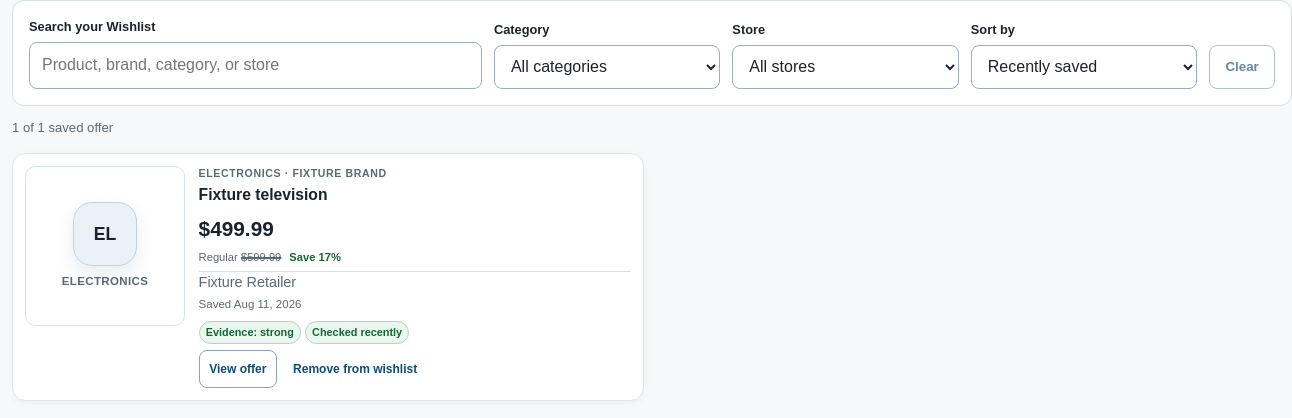
Scenario: SavedProductsView › loads only saved products and removes an item from the wishlist
The width and height of the screenshot is (1292, 418).
Check: the heading "Fixture television" is shown, box x1=199 y1=186 x2=328 y2=204
Check: the element "Fixture television" is shown, box x1=199 y1=166 x2=631 y2=388
Click the button "Remove from wishlist": click(355, 369) x1=282 y1=350 x2=428 y2=388
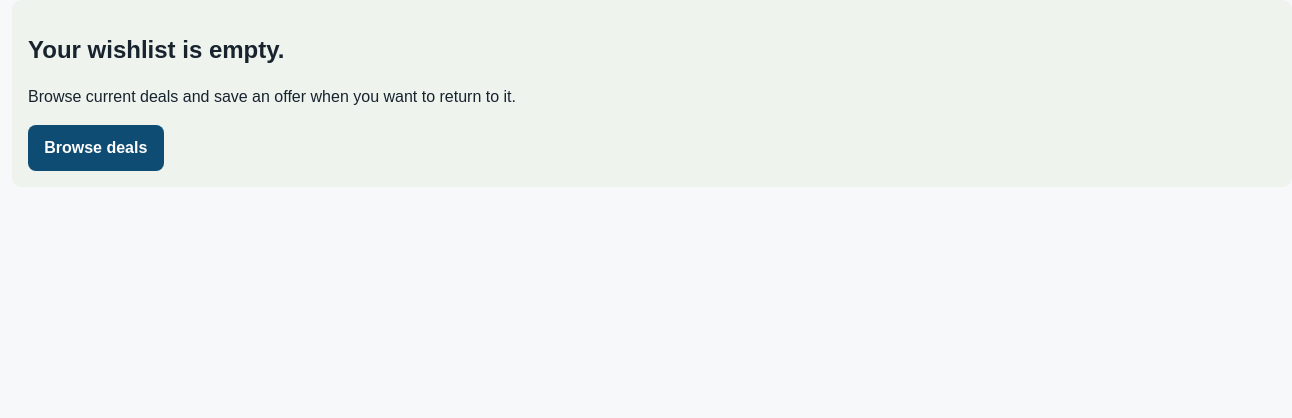
Check: the heading "Your wishlist is empty." is shown, box x1=28 y1=36 x2=284 y2=63
